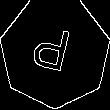P_S: (32, 23, 78, 81)
